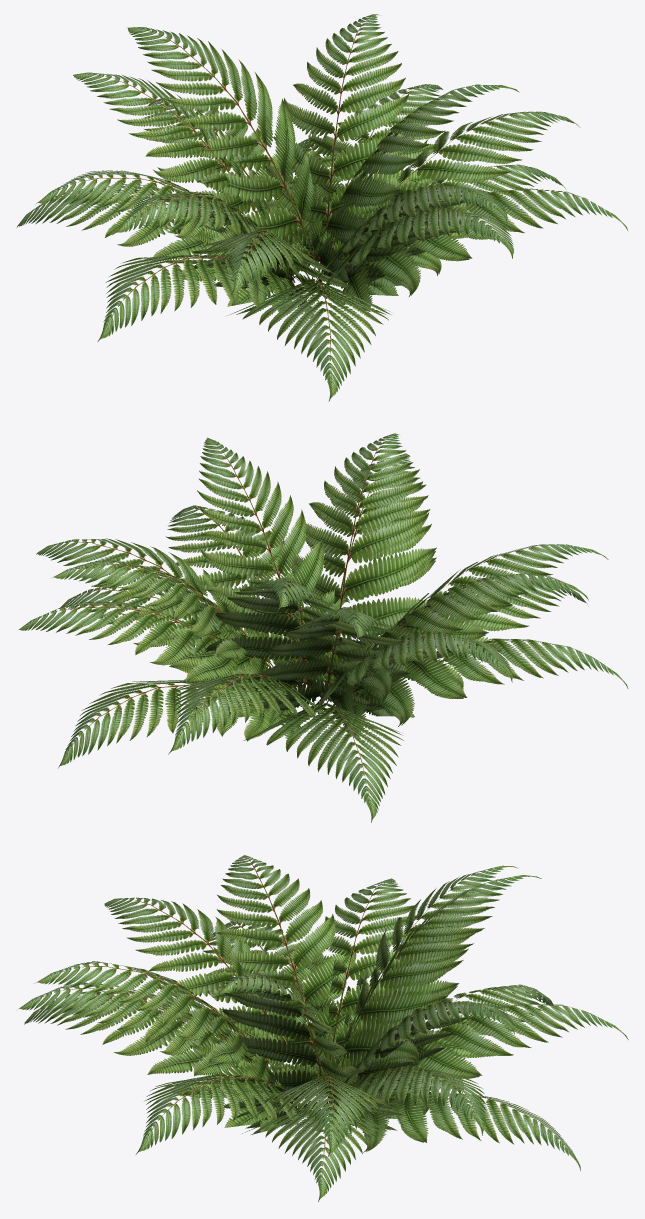
File: kapradi_1.glb
3 renders of one model, top to bottom at view 1: azimuth 30°, elevation 25°; view 2: azimuth 150°, elevation 25°; view 3: azimuth 270°, elevation 25°, orthographic.
Visible parts, largest first — view 1: SM_MZRa_Fern_B0522_MI_MZRa_Fern_B052_0; view 2: SM_MZRa_Fern_B0522_MI_MZRa_Fern_B052_0; view 3: SM_MZRa_Fern_B0522_MI_MZRa_Fern_B052_0.
Part boxes in pixels (x1,y1,x2,y2): SM_MZRa_Fern_B0522_MI_MZRa_Fern_B052_0: (17, 14, 627, 401); SM_MZRa_Fern_B0522_MI_MZRa_Fern_B052_0: (19, 433, 628, 822); SM_MZRa_Fern_B0522_MI_MZRa_Fern_B052_0: (19, 855, 628, 1201).
Size of the model in its own units: 1.94 by 0.7133 by 1.91.
Materials: 1 (1 with a texture image).
